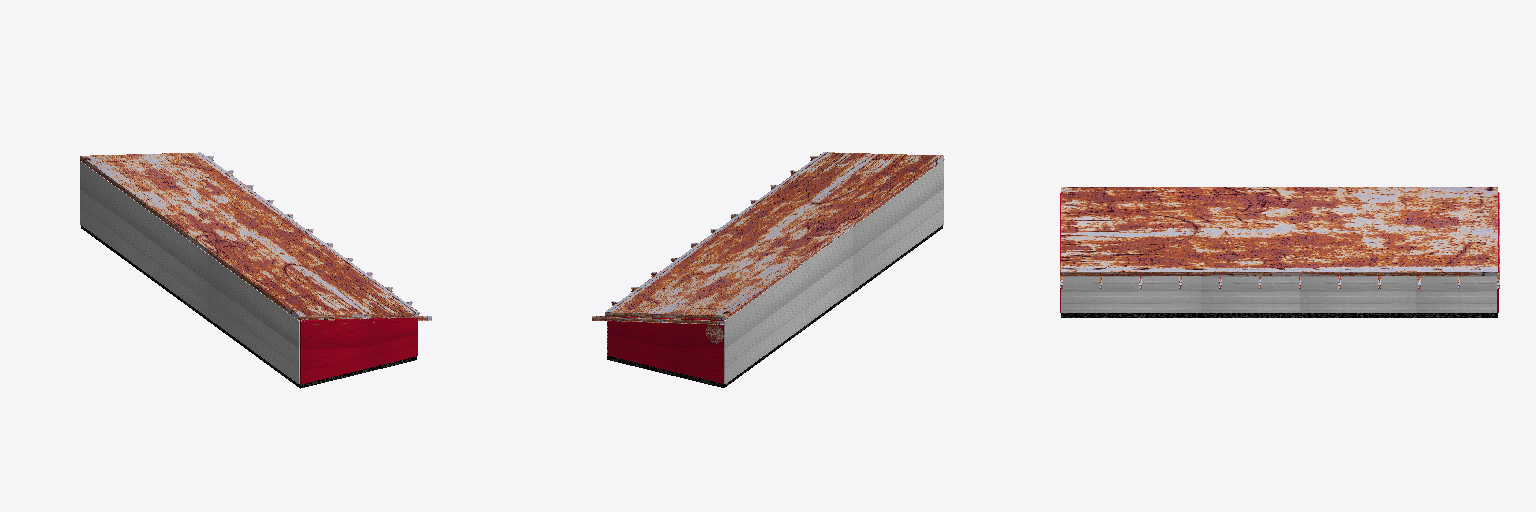
The picture shows the model from 3 angles: view 1: azimuth 30°, elevation 25°; view 2: azimuth 150°, elevation 25°; view 3: azimuth 270°, elevation 25°; orthographic projection.
Parts seen in each view (by area): view 1: Ceiling, BWall2, SWall2, Floor; view 2: Ceiling, BWall2, SWall1, Floor, Beam; view 3: Ceiling, Windows, StairsWallO, Floor.
Part boxes in pixels (x1,y1,x2,y2): Ceiling: (80,152,419,319); BWall2: (80,161,299,383); SWall2: (300,318,417,384); Floor: (81,225,416,388); Ceiling: (605,152,944,319); BWall2: (724,161,943,383); SWall1: (607,317,723,383); Floor: (607,225,942,387); Beam: (592,316,723,324); Ceiling: (1061,187,1497,275); Windows: (1061,276,1299,312); StairsWallO: (1300,273,1498,312); Floor: (1061,313,1497,317).
Bounding box in the file's own units: 460 × 239 × 1307.
Materials: 5 (5 with a texture image).